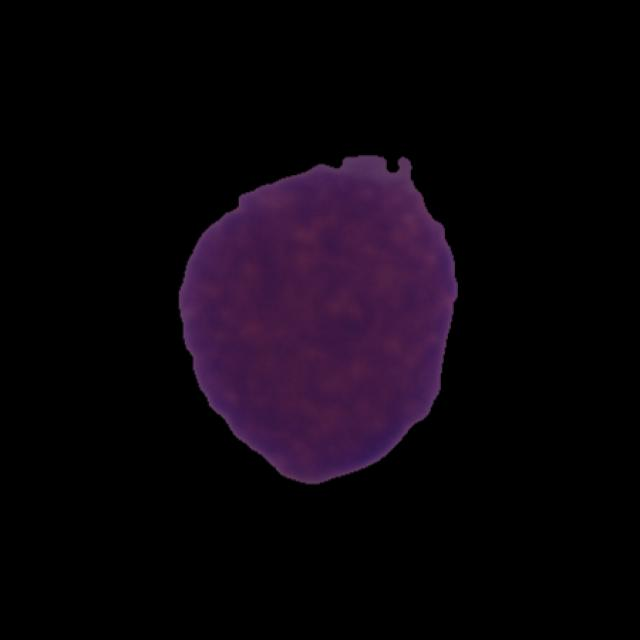ALL Negative Cells: (179, 162, 462, 485)
